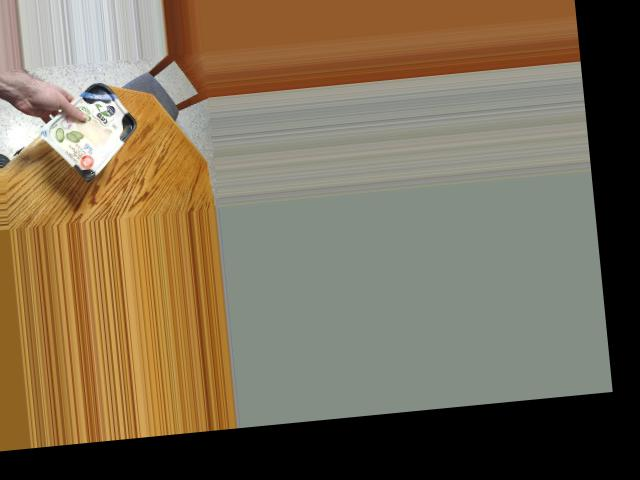cheese: (52, 86, 141, 172)
